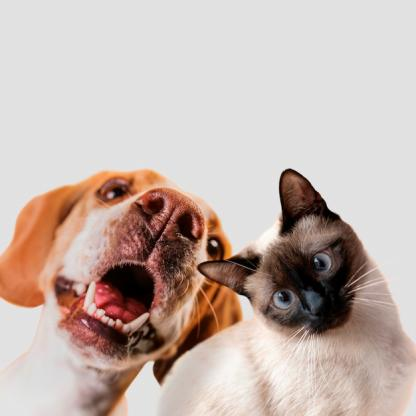cat: (225, 153, 405, 360)
dog: (35, 165, 236, 394)
